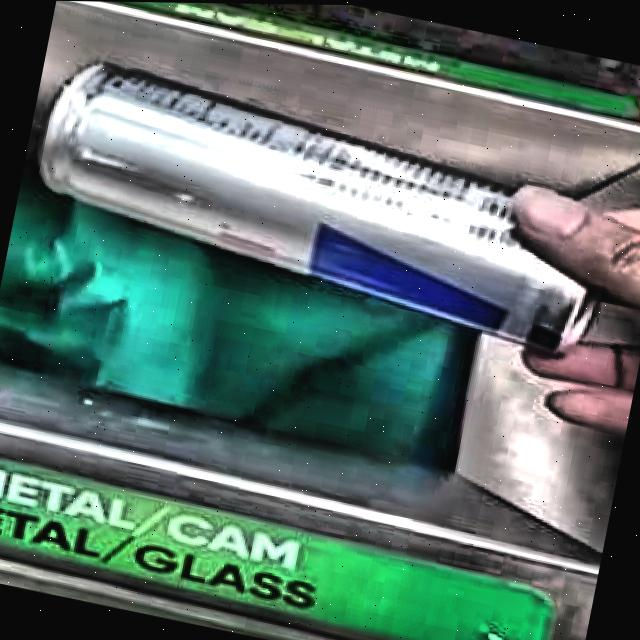metal: (38, 64, 593, 349)
